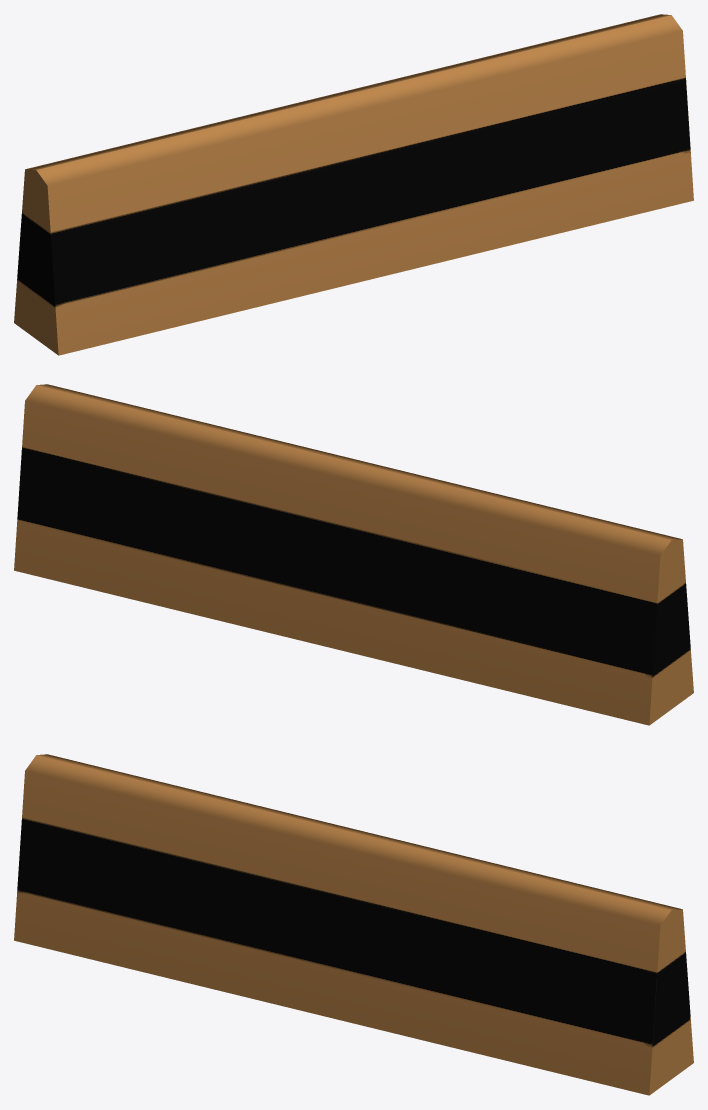
The model's file is ProjectRG_Environment_Sci-Fi_BarrierRails.fbx.
3 views of the same model, one above another, from view 1: azimuth 30°, elevation 25°; view 2: azimuth 150°, elevation 25°; view 3: azimuth 330°, elevation 25° (orthographic).
Parts seen in each view (by area): view 1: ProjectRG_Environment_Sci-Fi_BarrierRails; view 2: ProjectRG_Environment_Sci-Fi_BarrierRails; view 3: ProjectRG_Environment_Sci-Fi_BarrierRails.
Boxes of the visible parts, box(x1,y1,x2,y2) form: ProjectRG_Environment_Sci-Fi_BarrierRails: box(14, 14, 693, 355); ProjectRG_Environment_Sci-Fi_BarrierRails: box(14, 384, 693, 725); ProjectRG_Environment_Sci-Fi_BarrierRails: box(14, 754, 693, 1095).
Bounding box in the file's own units: 411 × 105 × 50.
